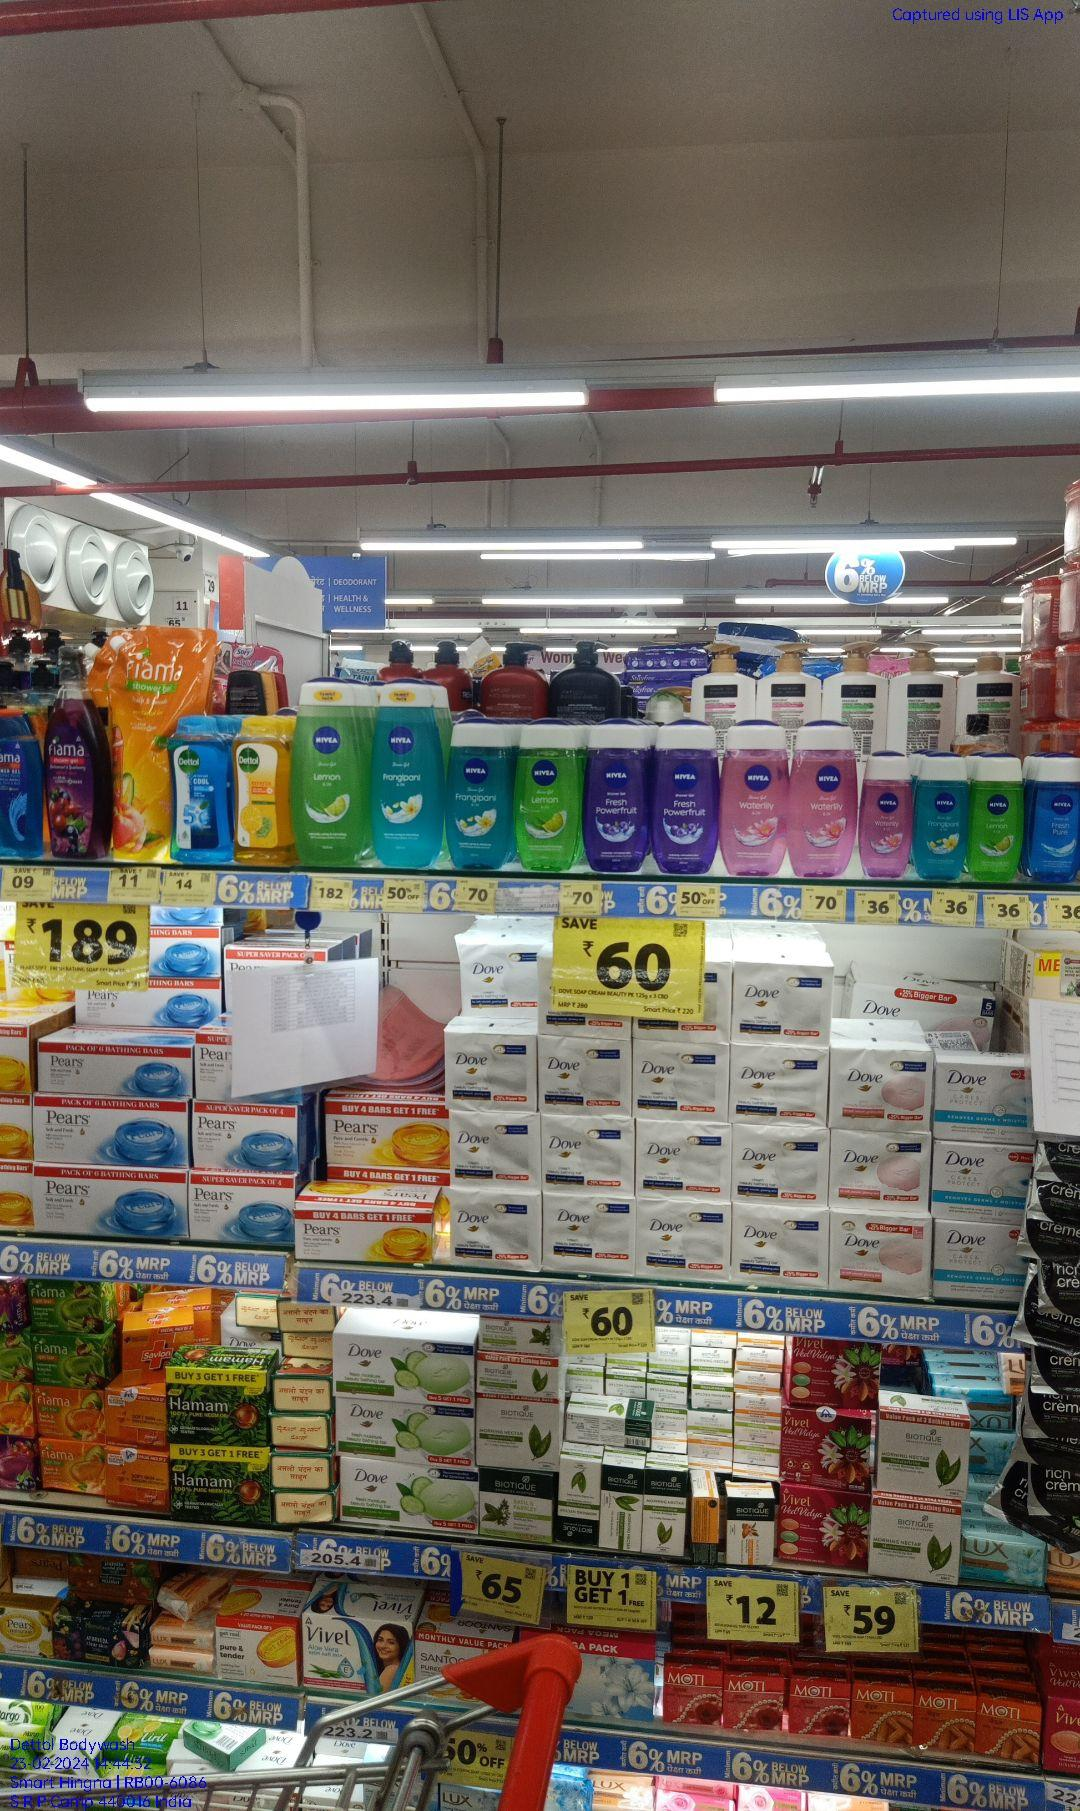Dettol_Bodywash_Cool: (167, 717, 233, 866)
Dettol_Bodywash_Refresh: (230, 718, 291, 866)
Nivea_Shower_Gel_Frangipani_and_Oil_250ML: (369, 681, 442, 868), (447, 721, 509, 873), (912, 757, 968, 883)
Nivea_Shower_Gel_Fresh_Powerfruit_250ML: (649, 727, 716, 873), (582, 726, 647, 874)
Nivea_Shower_Gel_Lemon_and_Oil_250ML: (293, 677, 364, 866), (516, 727, 579, 868), (972, 757, 1021, 886)
Nivea_Shower_Gel_Waterlily_and_Oil_250ML: (792, 722, 856, 875), (720, 730, 787, 875), (860, 751, 910, 877)
